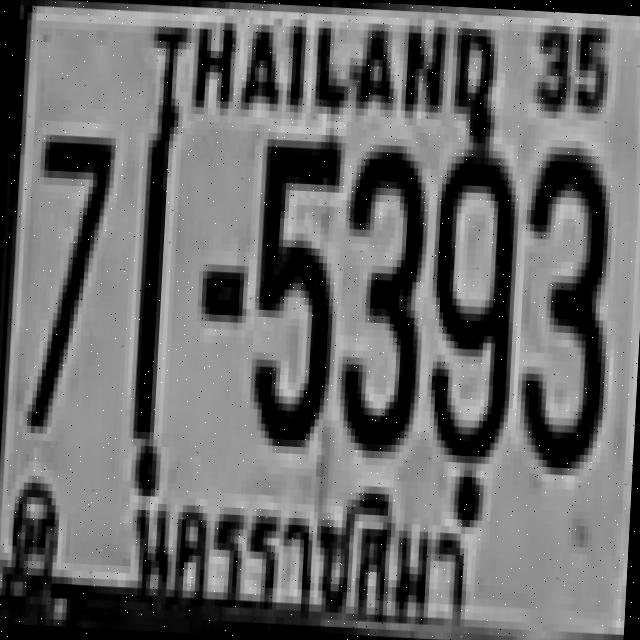3: (516, 151, 616, 475), (337, 143, 427, 452)
5: (252, 136, 342, 445)
7: (24, 128, 114, 430)
9: (424, 145, 520, 469)
NakhonRatchasima: (116, 464, 490, 640)
